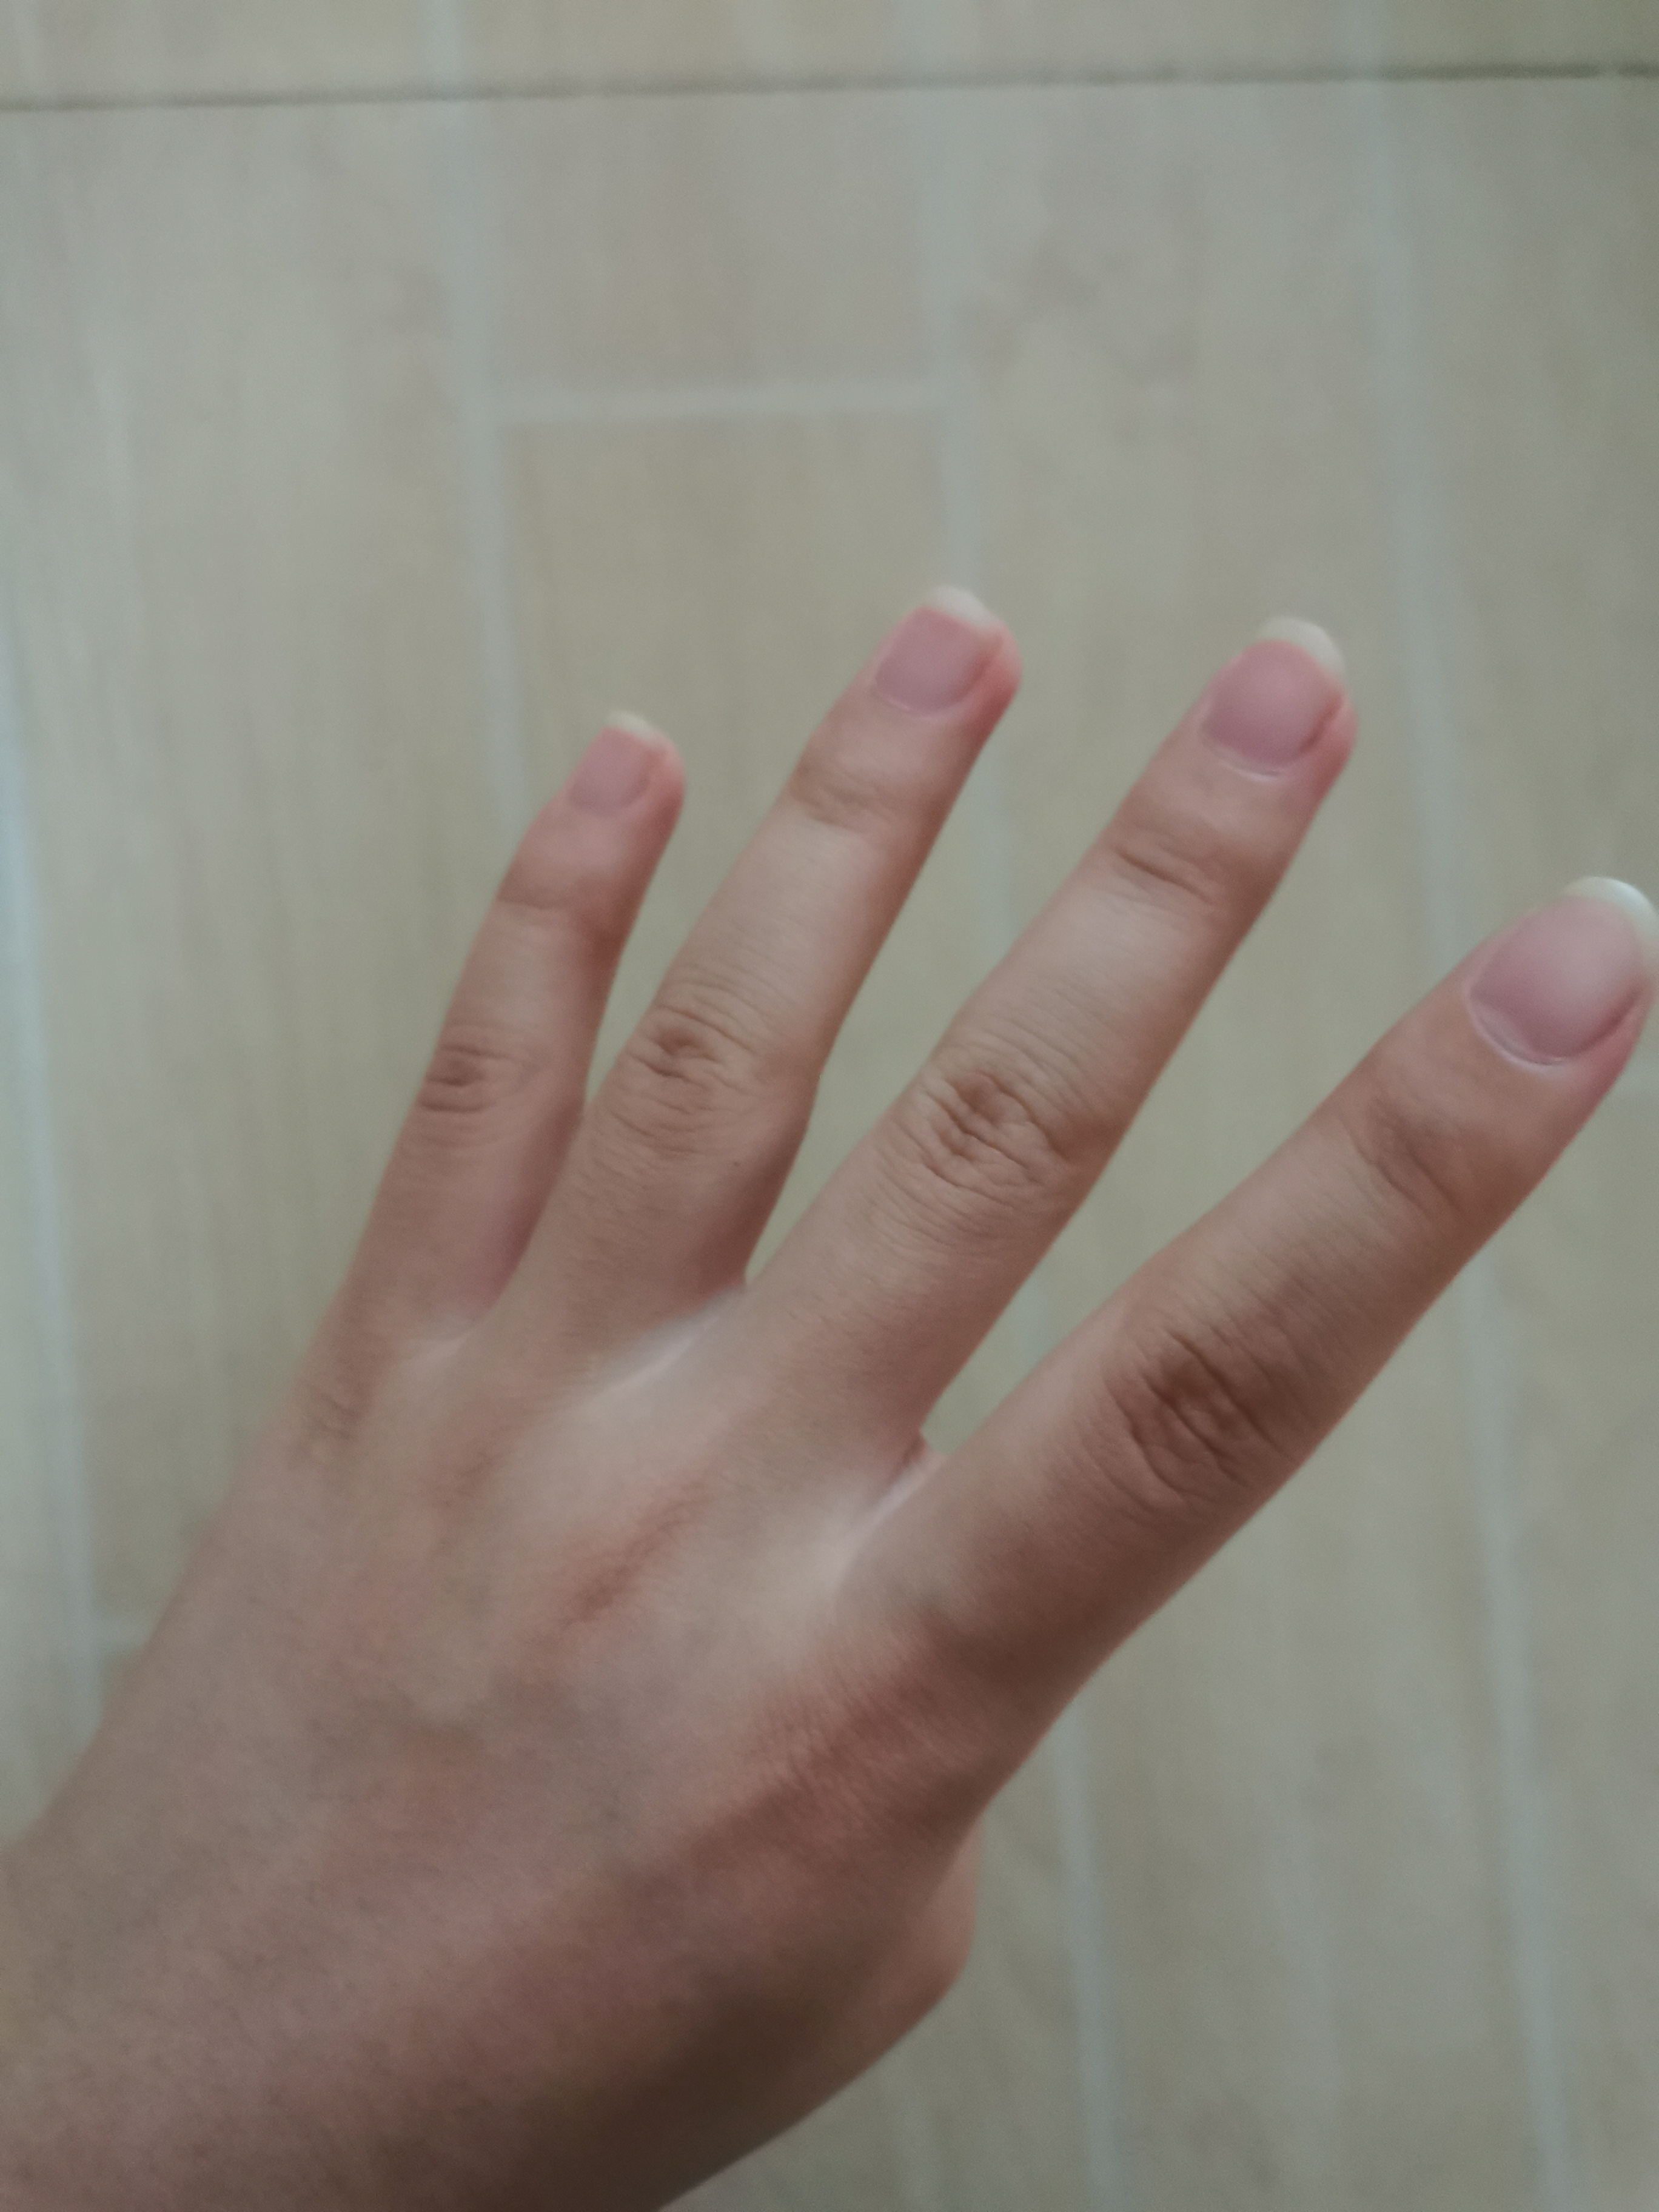right: (40, 585, 1659, 2175)
